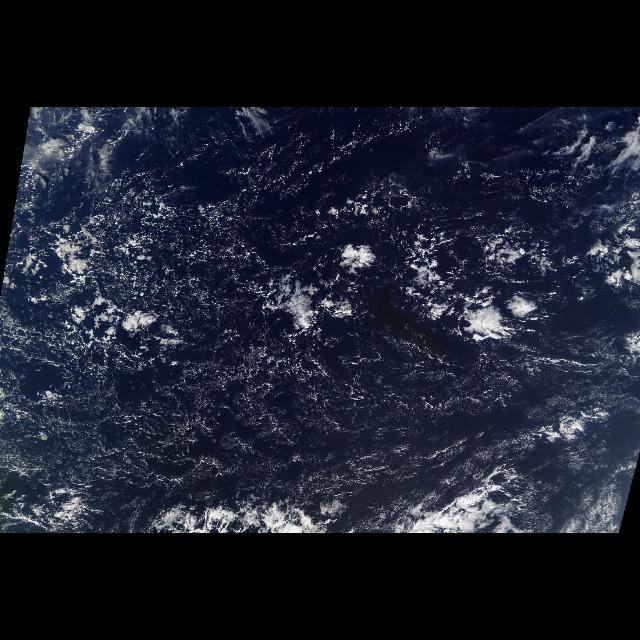Gravel: (18, 176, 608, 490)
Sugar: (5, 350, 512, 490)
